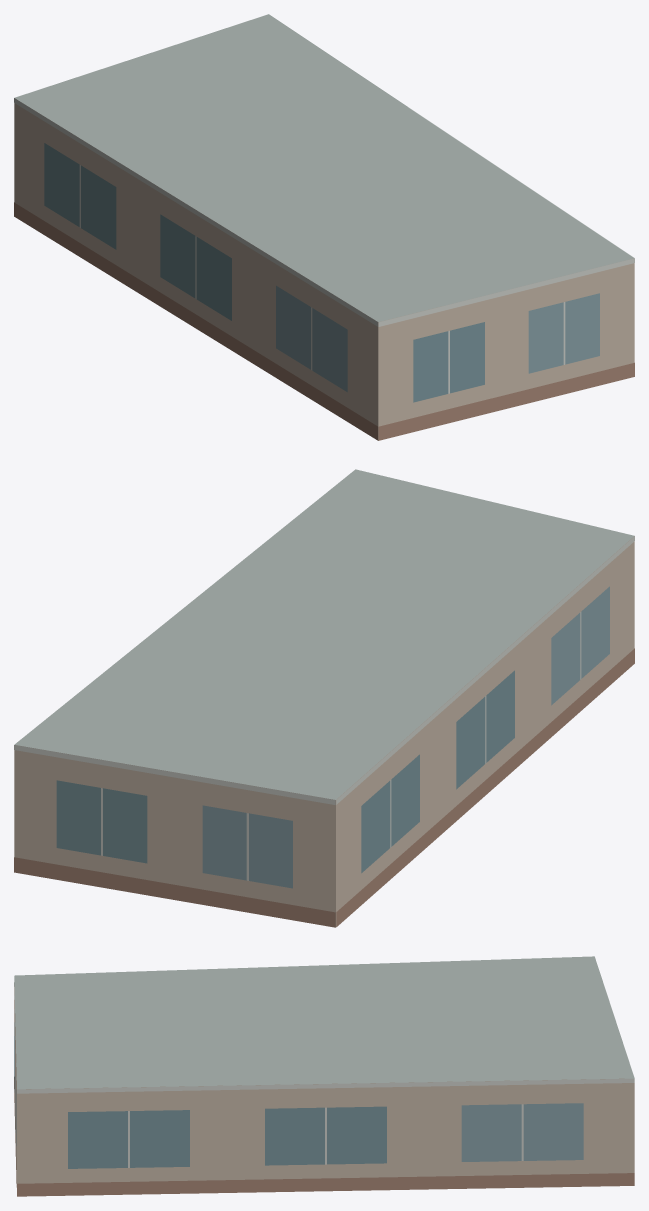
Rendered from survey-upis-32754387.glb.
3 renders of one model, top to bottom at view 1: azimuth 30°, elevation 25°; view 2: azimuth 150°, elevation 25°; view 3: azimuth 270°, elevation 25°, orthographic. The views are drawn at different scales.
Parts seen in each view (by area): view 1: survey-upis-32754387.tmp; view 2: survey-upis-32754387.tmp; view 3: survey-upis-32754387.tmp.
Part boxes in pixels (x1,y1,x2,y2): survey-upis-32754387.tmp: (14, 14, 634, 440); survey-upis-32754387.tmp: (14, 469, 634, 927); survey-upis-32754387.tmp: (14, 956, 634, 1196).
Bounding box in the file's own units: 8.12 × 3.05 × 16.01.
